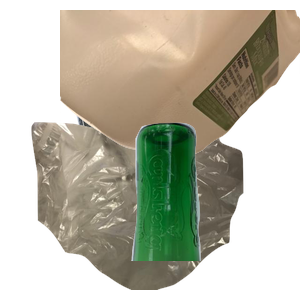glass: (129, 120, 300, 300)
metal: (73, 42, 277, 212)
plastic: (60, 10, 300, 160)
trash: (29, 120, 265, 300)
